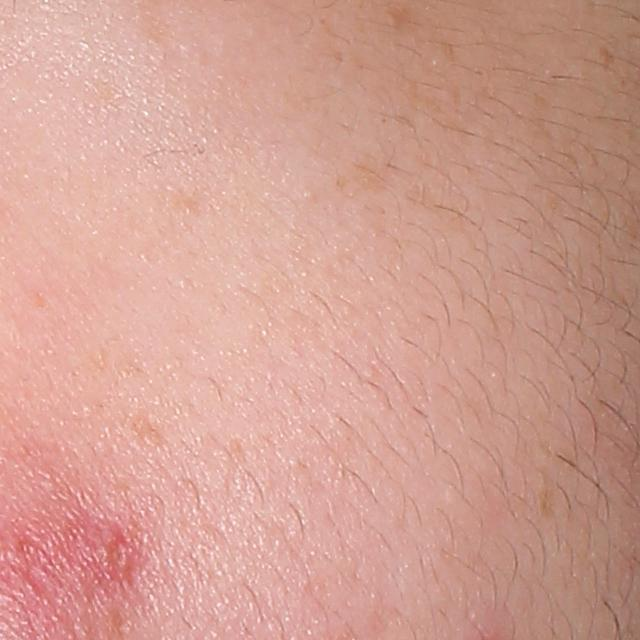melasma: (337, 152, 404, 195)
